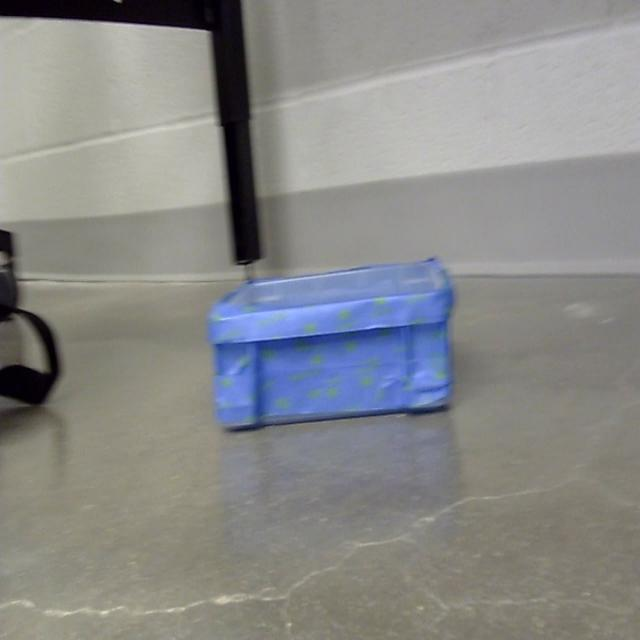bucket: (206, 257, 456, 434)
